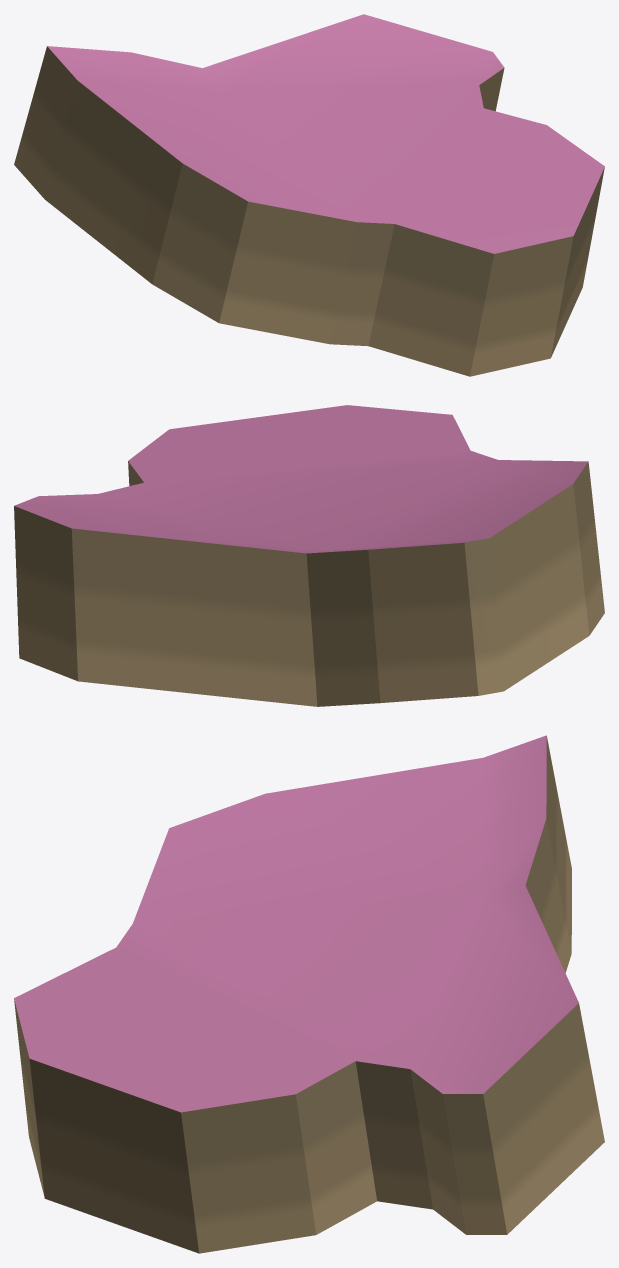
The model's file is 0656_Nigeria.glb.
3 views of the same model, one above another, from view 1: azimuth 30°, elevation 25°; view 2: azimuth 150°, elevation 25°; view 3: azimuth 270°, elevation 25° (orthographic). The views are drawn at different scales.
Parts seen in each view (by area): view 1: part_0; view 2: part_0; view 3: part_0.
Part boxes in pixels (x1,y1,x2,y2): part_0: (14, 14, 604, 376); part_0: (14, 405, 604, 706); part_0: (14, 735, 604, 1253).
Bounding box in the file's own units: 0.7424 × 0.3761 × 0.7042.
1 material, 1 textured.
